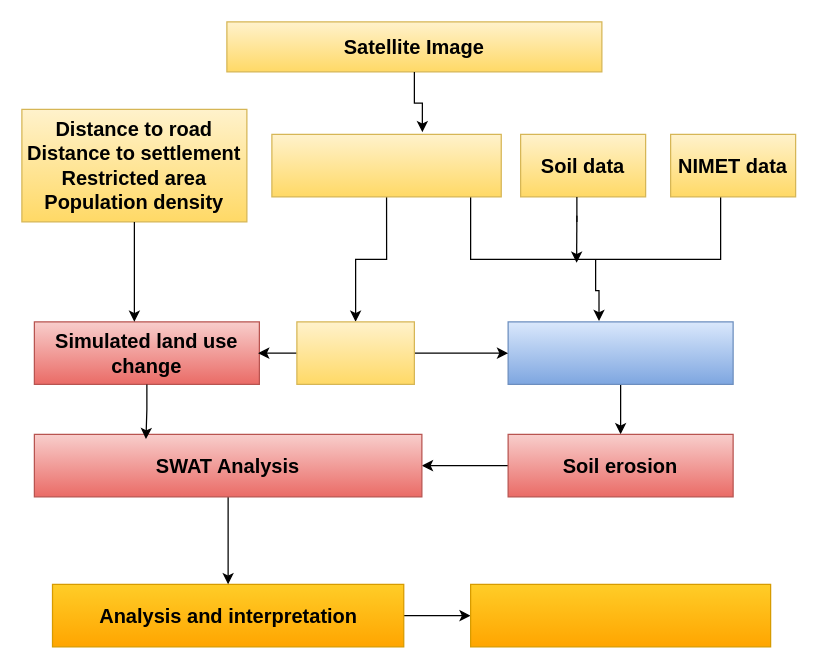
This 818x669 diagram has some shape labels left out. Here are the shapes that lost their labels. From the top down, the centre of each, then its label:
At [386,165]: "DEM".
At [355,352]: "LULC".
At [620,352]: "RUSLE Model".
At [620,615]: "Impact of LULC changes on Soil erosion".
